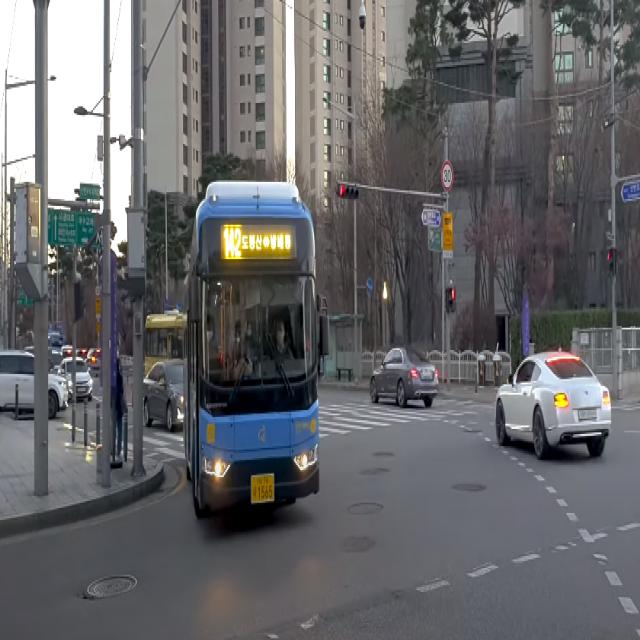bus-number: (222, 225, 242, 259)
